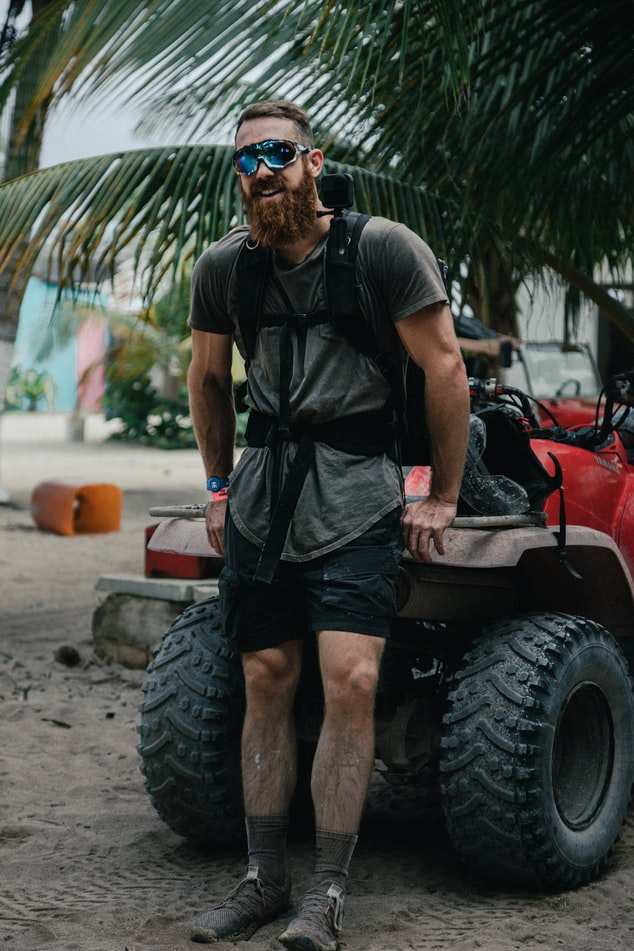beard: (237, 180, 327, 249)
glasses: (230, 138, 310, 175)
